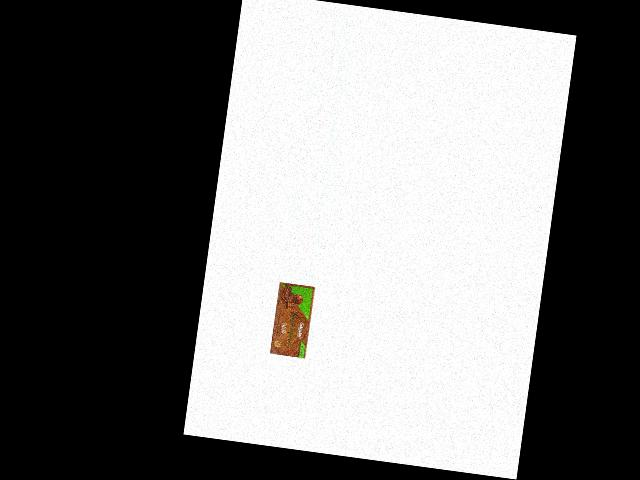chocolate: (268, 281, 318, 361)
